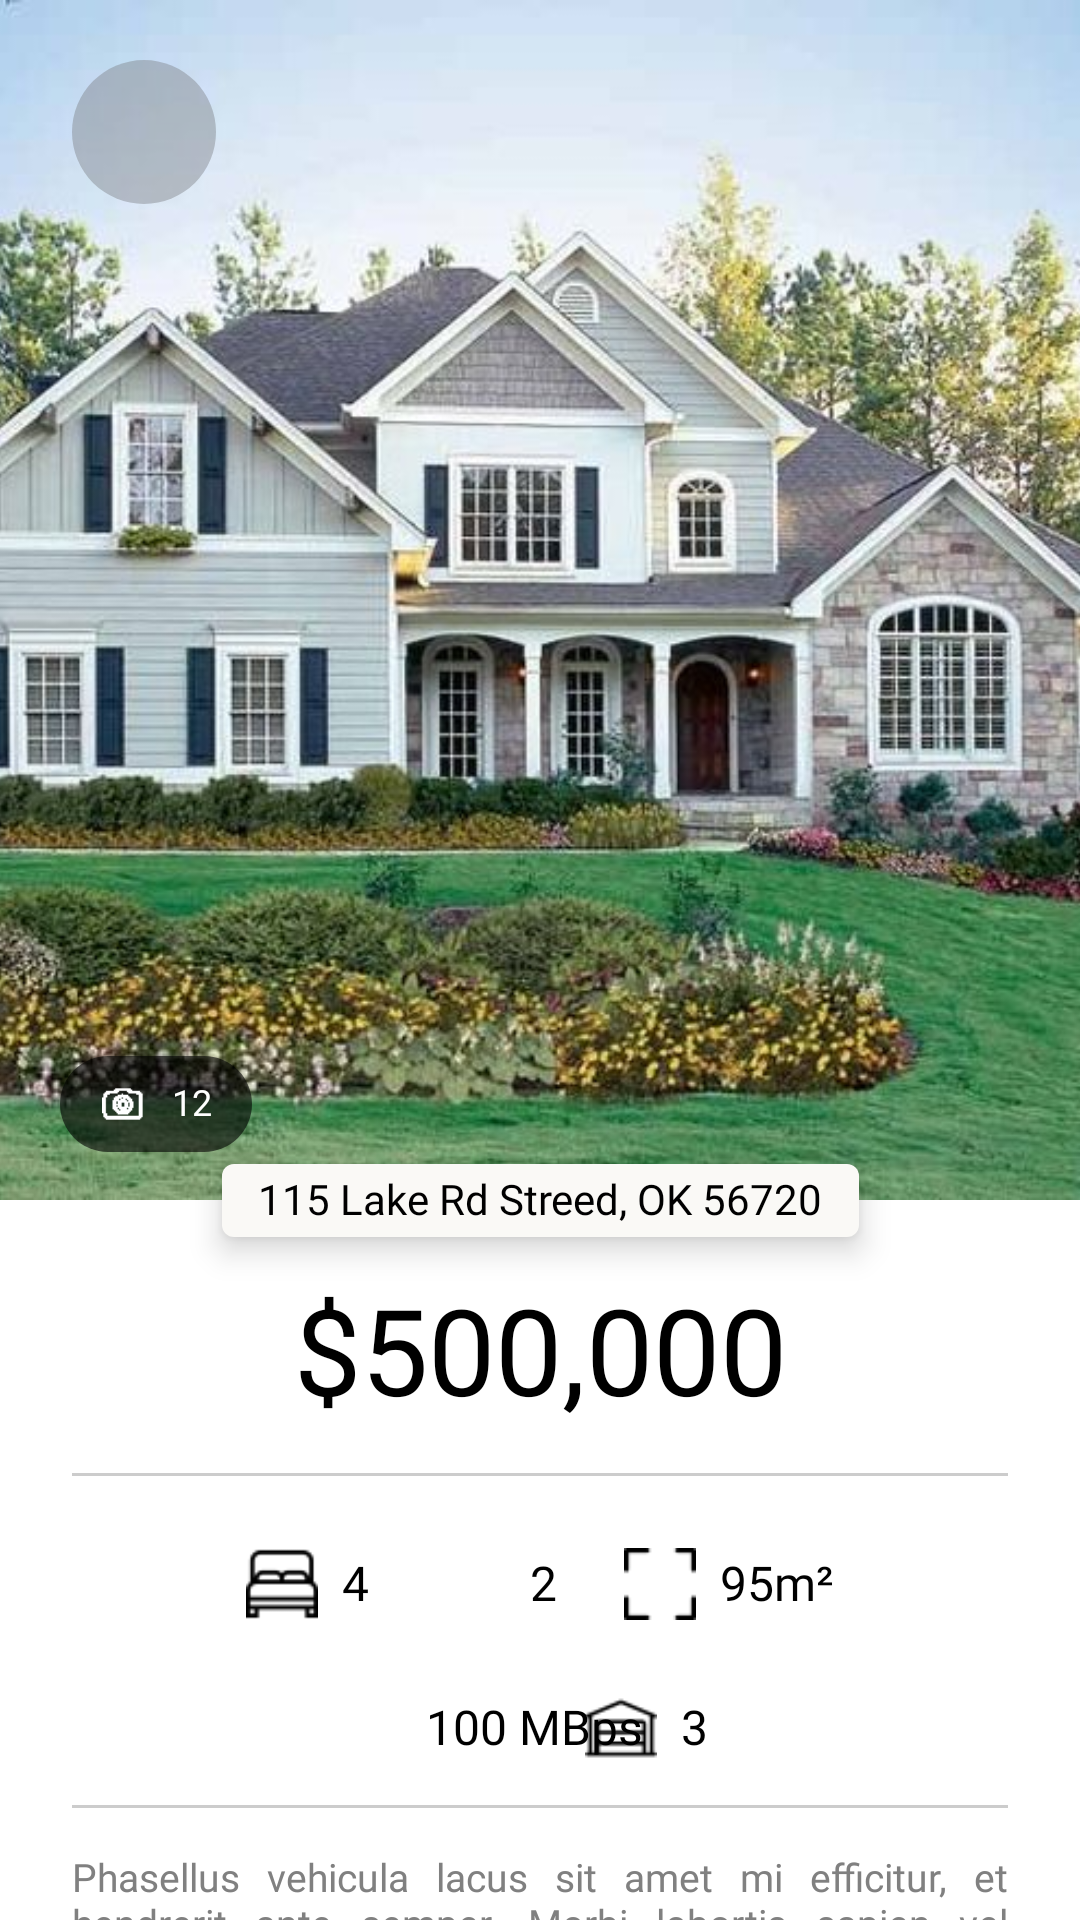

Screen size 1080x1920. Icon name, then its box in pixels as (x1, y1, x2, y2):
bed: (246, 1549, 318, 1619)
square: (624, 1548, 696, 1620)
